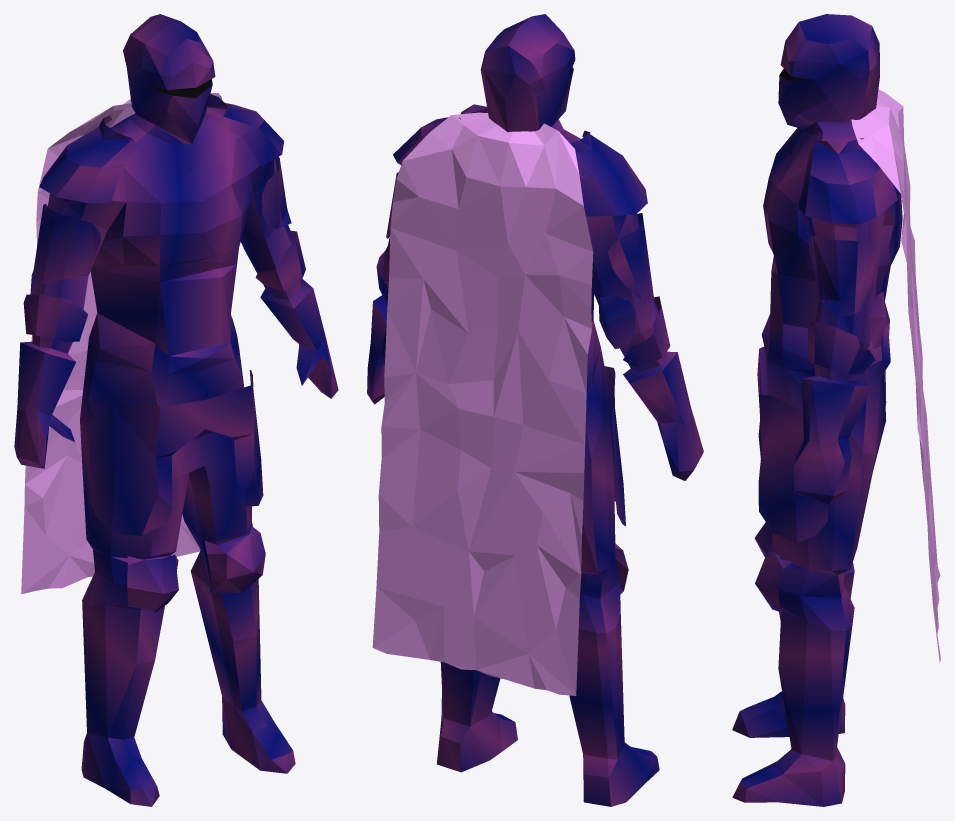
The model's file is Knight.fbx.
The picture shows the model from 3 angles, left to right: view 1: azimuth 30°, elevation 25°; view 2: azimuth 150°, elevation 25°; view 3: azimuth 270°, elevation 25°; orthographic projection. The views are drawn at different scales.
Parts seen in each view (by area): view 1: Cube, Plane; view 2: Plane, Cube; view 3: Cube, Plane.
Boxes of the visible parts, <box> form: Cube: <box>14,14,338,806</box>; Plane: <box>21,93,222,594</box>; Plane: <box>372,112,593,695</box>; Cube: <box>367,14,703,806</box>; Cube: <box>732,14,902,806</box>; Plane: <box>851,89,940,663</box>.
Size of the model in its own units: 138 by 312 by 78.73.
